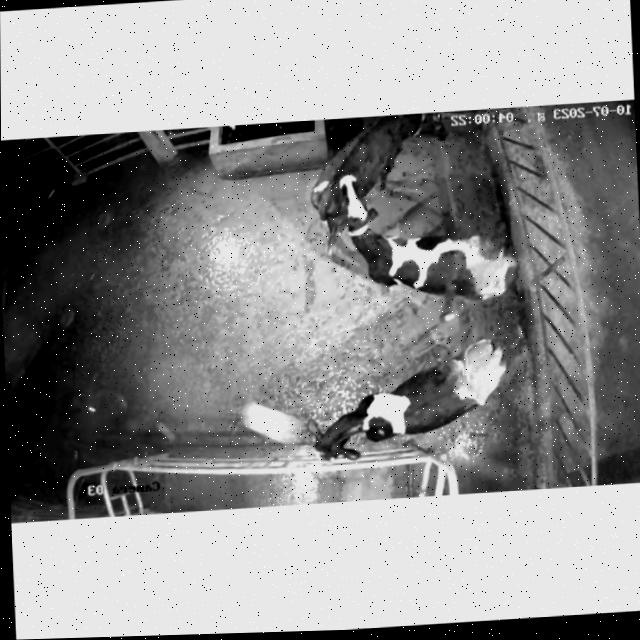propping: (310, 144, 401, 258)
